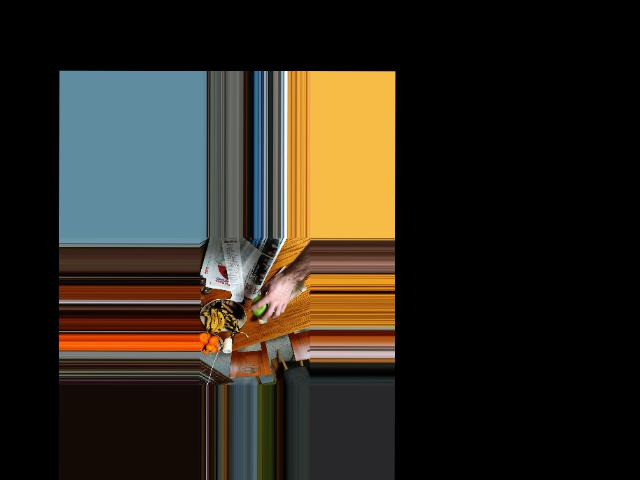apple: (251, 293, 274, 318)
